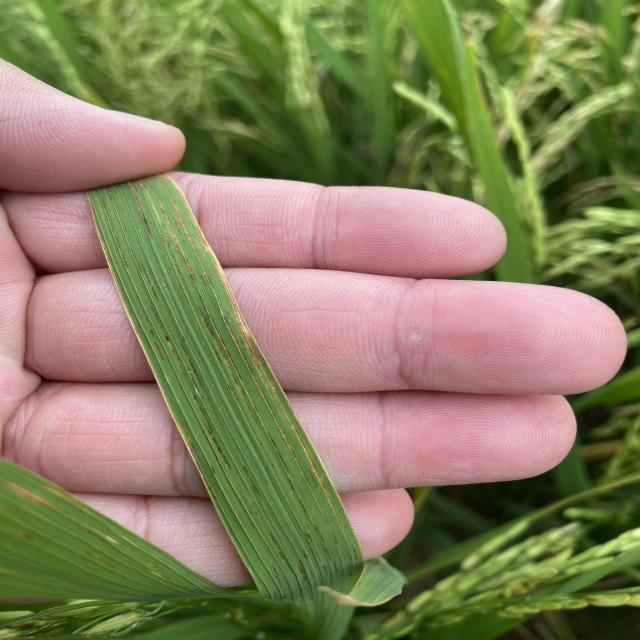Dom soc vi khuan: (201, 315, 243, 392), (161, 208, 198, 281), (150, 307, 184, 377), (192, 394, 223, 454), (126, 181, 153, 238), (215, 328, 241, 381), (269, 433, 289, 472), (181, 344, 198, 378), (243, 467, 259, 493), (222, 455, 231, 468), (148, 330, 154, 336)
